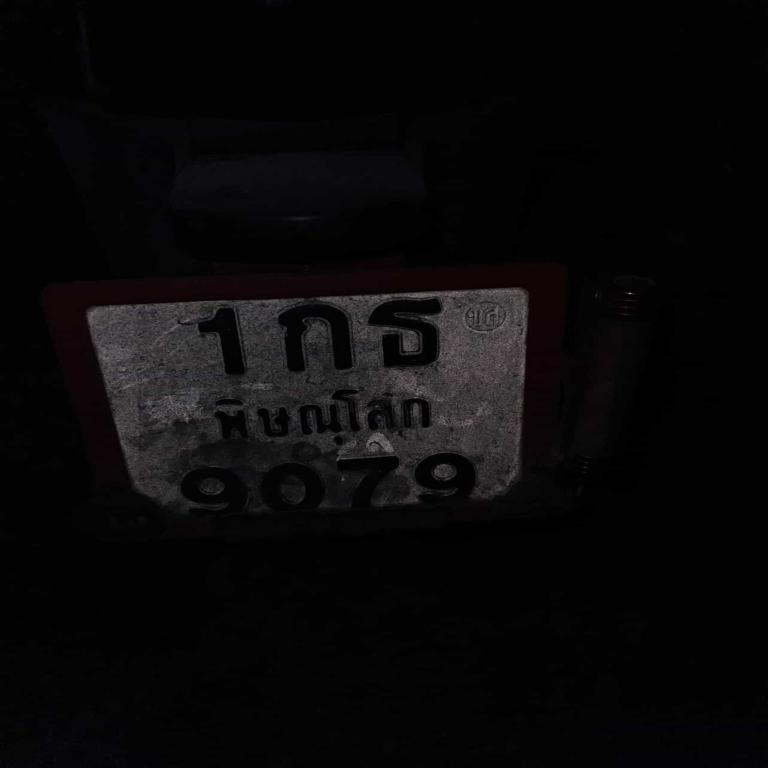license plate: (78, 281, 535, 525)
